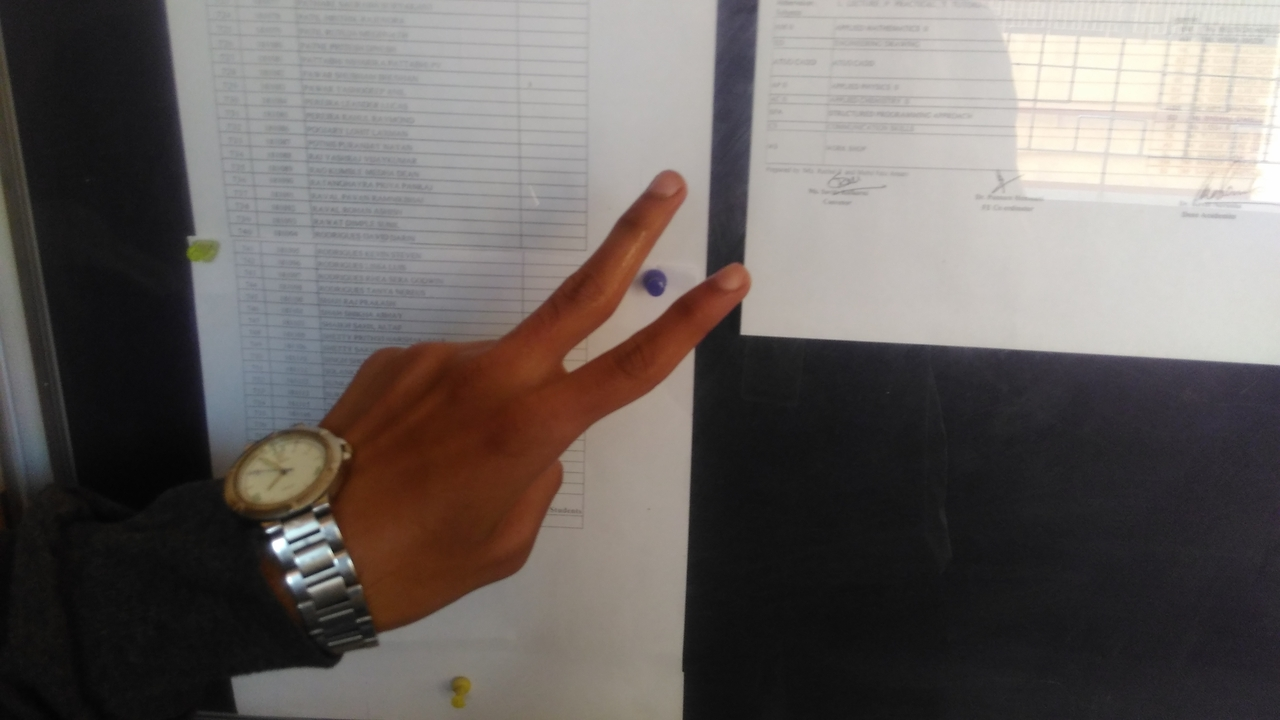fingertip: (696, 254, 762, 302), (632, 162, 690, 212)
